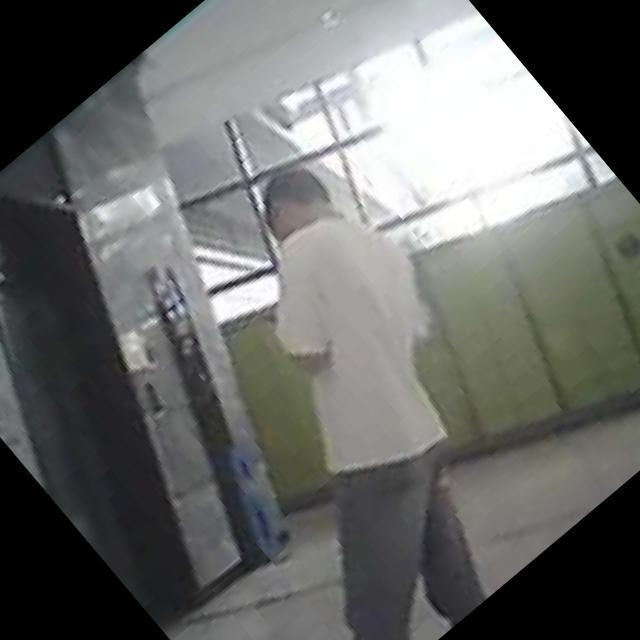person: (67, 141, 611, 640)
